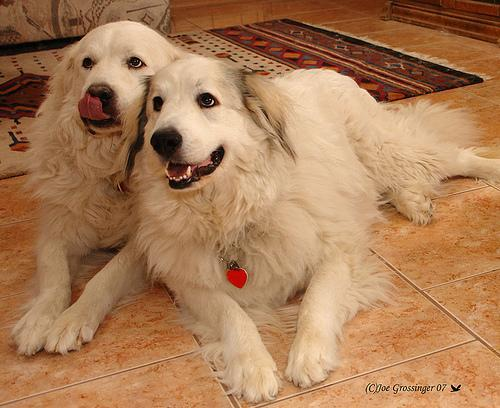Great_Pyrenees: (135, 57, 498, 401), (6, 19, 195, 355)
